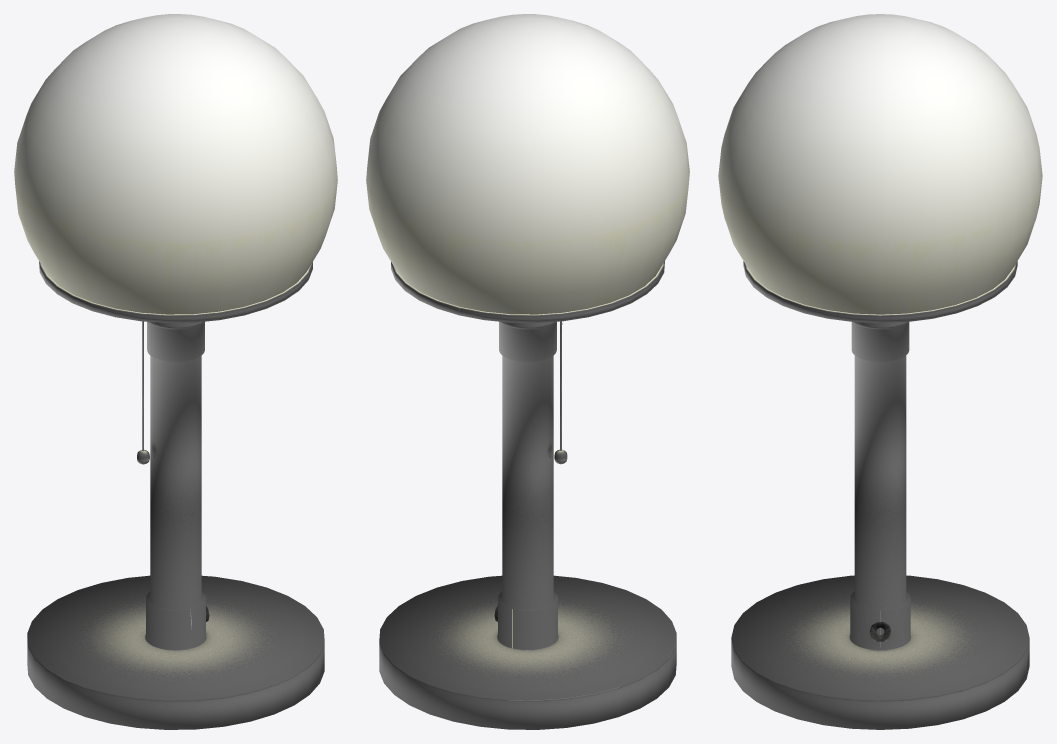
3 views of the same model, side by side, from view 1: azimuth 30°, elevation 25°; view 2: azimuth 150°, elevation 25°; view 3: azimuth 270°, elevation 25° (orthographic).
Parts seen in each view (by area): view 1: NurbsPath; view 2: NurbsPath; view 3: NurbsPath.
Part boxes in pixels (x1=…): NurbsPath: x1=14, y1=14, x2=337, y2=729; NurbsPath: x1=366, y1=14, x2=689, y2=729; NurbsPath: x1=718, y1=14, x2=1042, y2=729.
Bounding box in the file's own units: 0.4823 × 1.05 × 0.4823.
1 material, 1 textured.
